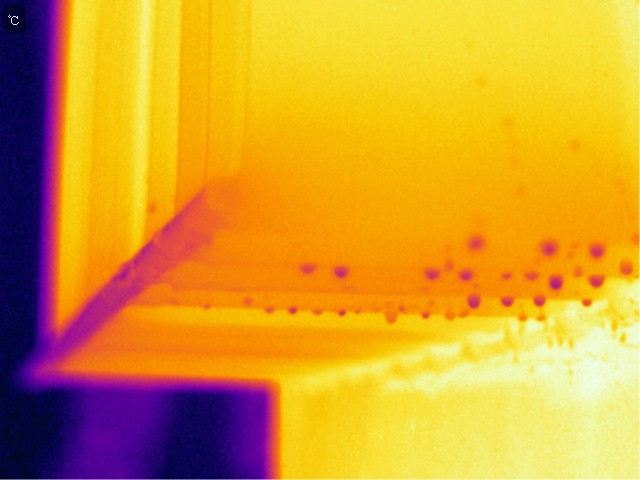Water: (585, 241, 611, 262), (533, 239, 563, 257), (584, 273, 609, 292), (463, 290, 484, 311), (615, 257, 636, 278), (281, 300, 302, 321), (545, 272, 565, 293), (329, 264, 353, 280), (299, 261, 322, 277), (260, 302, 279, 321), (466, 233, 484, 252), (529, 295, 551, 310), (497, 293, 516, 309), (578, 295, 597, 311), (422, 267, 443, 280), (418, 306, 433, 324), (456, 268, 475, 281), (336, 310, 351, 319)
